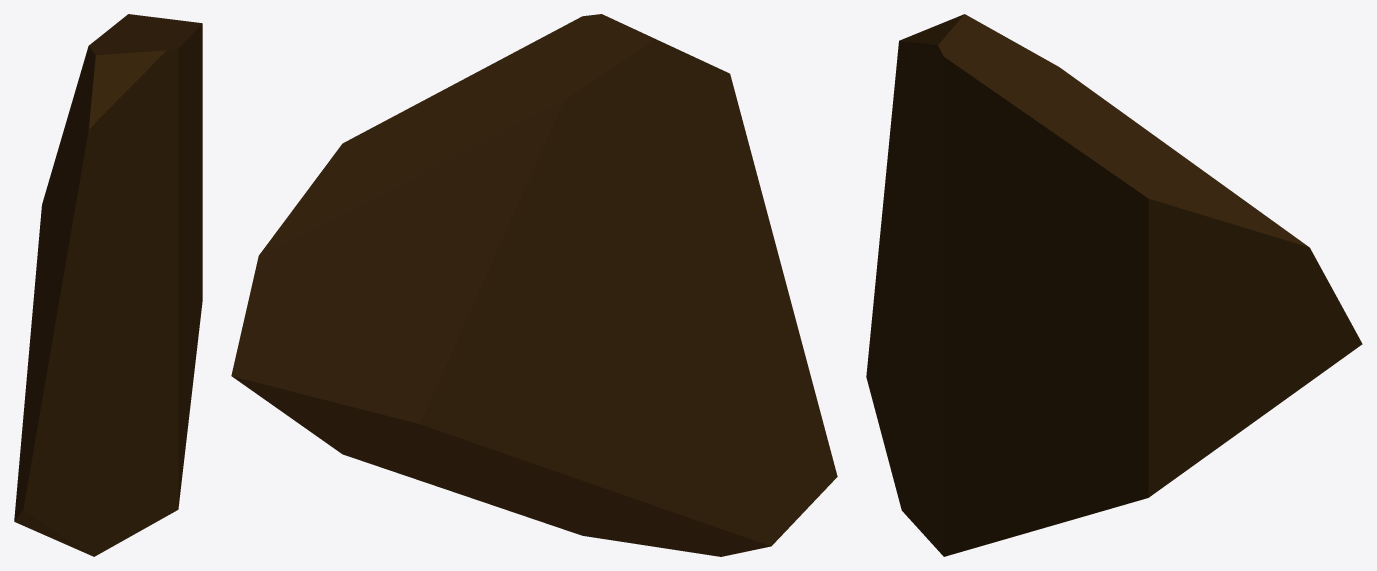
Rendered from Debris6.glb.
3 views of the same model, side by side, from view 1: azimuth 30°, elevation 25°; view 2: azimuth 150°, elevation 25°; view 3: azimuth 270°, elevation 25° (orthographic). The views are drawn at different scales.
Visible parts, largest first — view 1: Cylinder_cell.007; view 2: Cylinder_cell.007; view 3: Cylinder_cell.007.
Part boxes in pixels (left/top/right/bottom): Cylinder_cell.007: left=14, top=14, right=202, bottom=556; Cylinder_cell.007: left=231, top=14, right=837, bottom=556; Cylinder_cell.007: left=866, top=14, right=1362, bottom=556.
Bounding box in the file's own units: 1.07 × 1.56 × 1.37.
